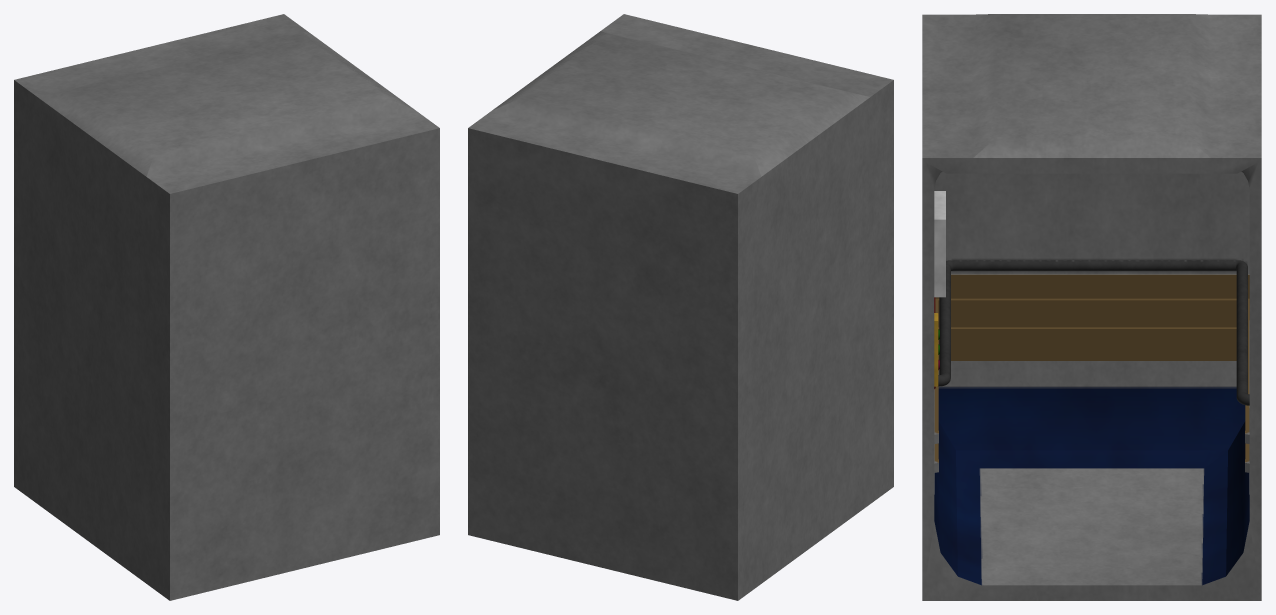
The model's file is elevator1.fbx.
3 renders of one model, left to right at view 1: azimuth 30°, elevation 25°; view 2: azimuth 150°, elevation 25°; view 3: azimuth 270°, elevation 25°, orthographic. The views are drawn at different scales.
Visible parts, largest first — view 1: bake; view 2: bake; view 3: bake.
Boxes of the visible parts, box(x1,y1,x2,y2) form: bake: box(14, 14, 439, 600); bake: box(468, 14, 893, 600); bake: box(922, 14, 1261, 600).
Bounding box in the file's own units: 200 × 294 × 200.
Materials: 1 (1 with a texture image).
